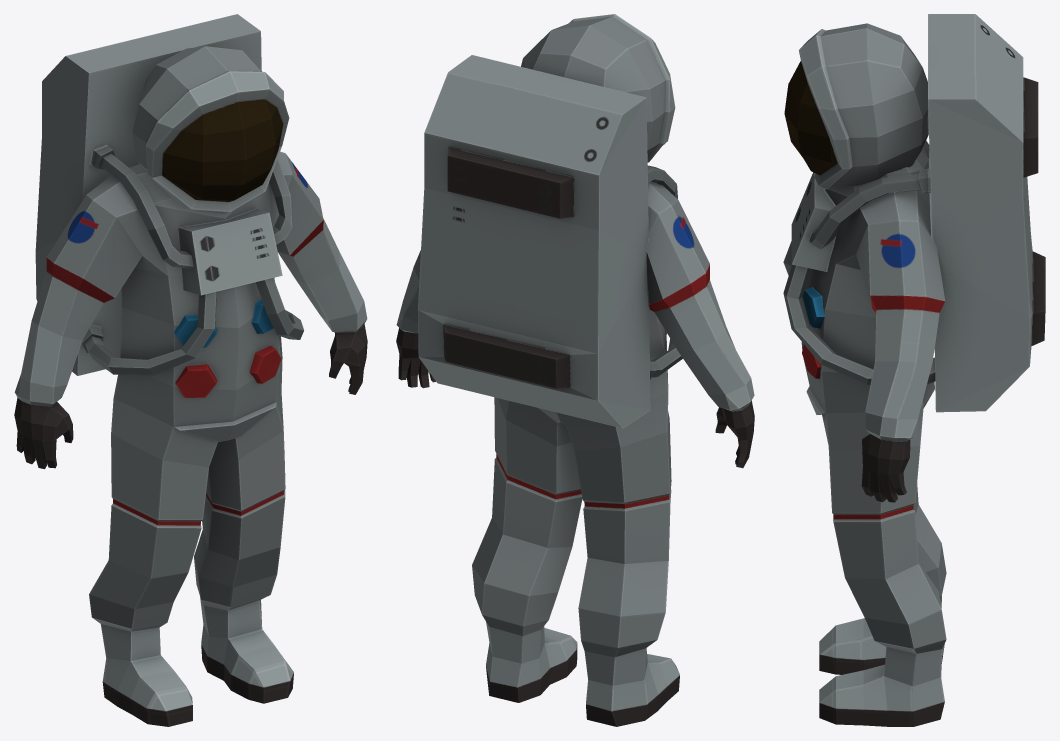
File: astronaut.glb
The picture shows the model from 3 angles, left to right: view 1: azimuth 30°, elevation 25°; view 2: azimuth 150°, elevation 25°; view 3: azimuth 270°, elevation 25°; orthographic projection.
Parts seen in each view (by area): view 1: node-0; view 2: node-0; view 3: node-0.
Part boxes in pixels (left/top/right/bottom): node-0: left=14, top=14, right=367, bottom=726; node-0: left=396, top=14, right=754, bottom=726; node-0: left=783, top=14, right=1045, bottom=726.
Bounding box in the file's own units: 1.12 × 2.01 × 0.7236.
1 material, 1 textured.
